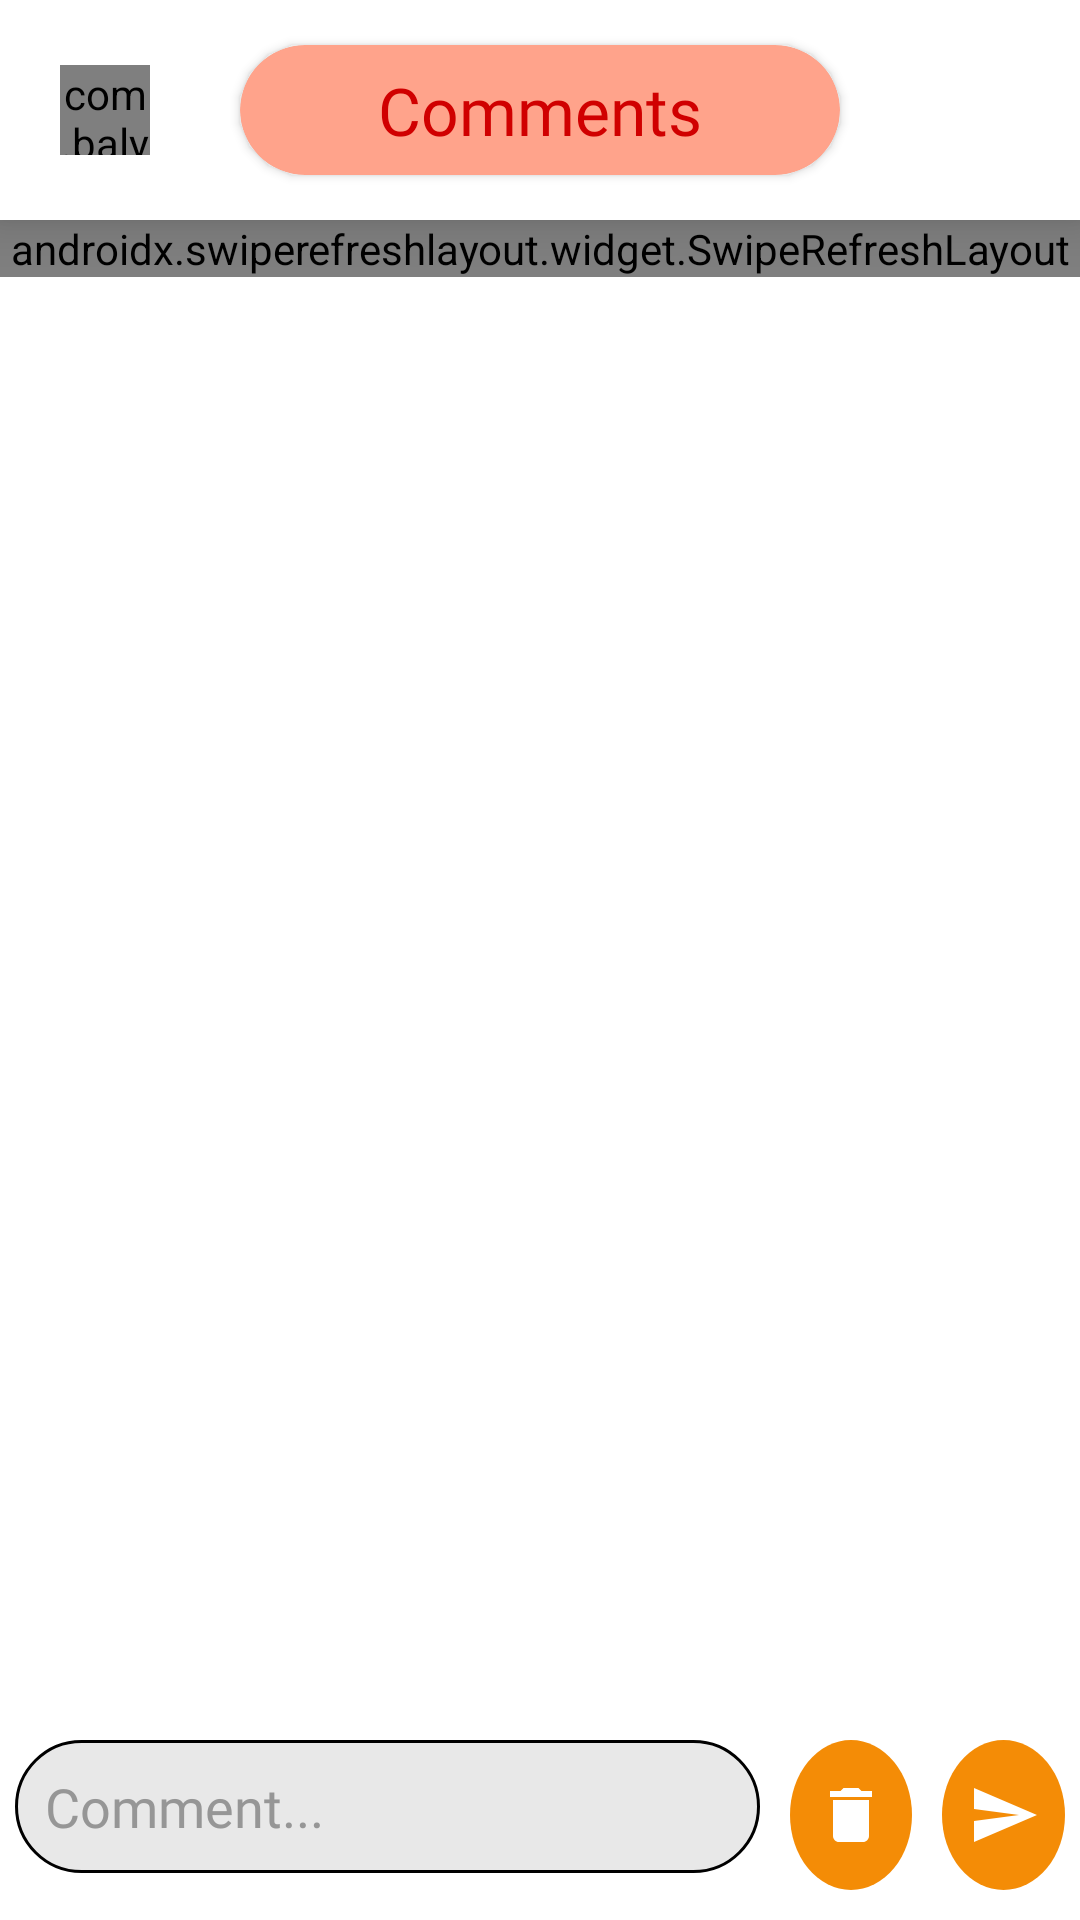

Named icons in this screenshot (1080px×1920px) and their centers, (x,y):
delete: (851,1815)
send: (1003,1815)
